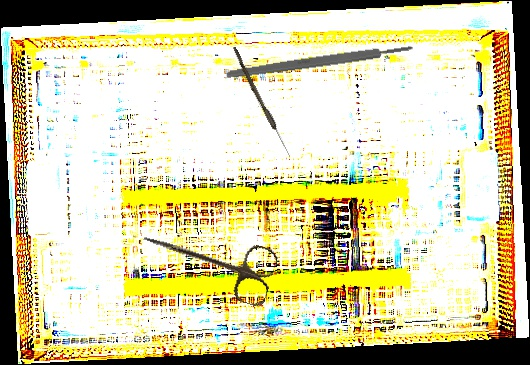Iris Scissors: (134, 212, 280, 309)
Scalpel Handle: (225, 42, 414, 81)
Surgical Spoon: (229, 46, 294, 158)
